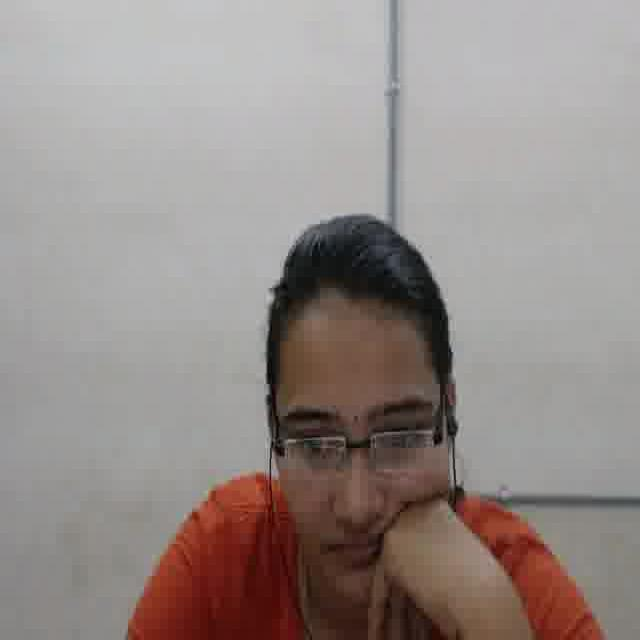Boredom: (273, 307, 449, 621)
